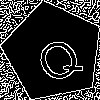Q: (28, 27, 87, 88)
